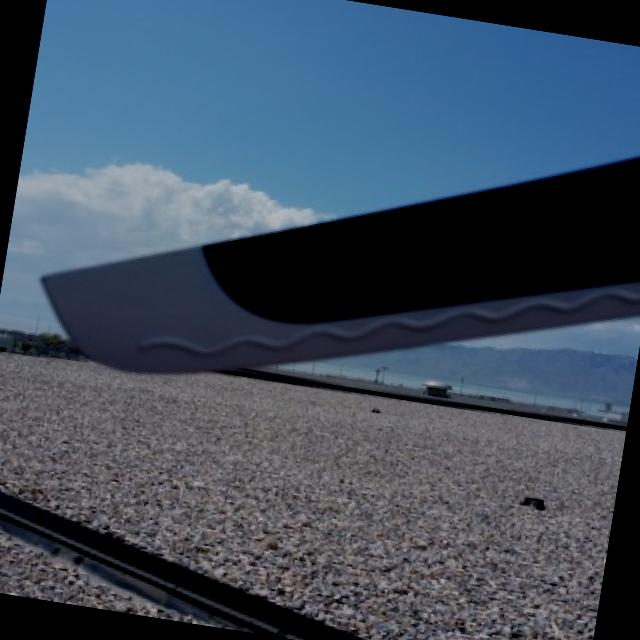healthy: (39, 155, 640, 371)
